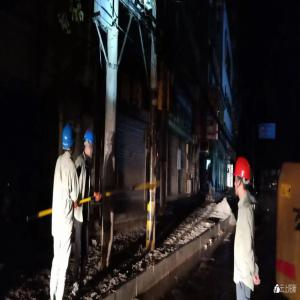blue: (63, 123, 76, 156), (85, 129, 96, 161)
red: (232, 156, 252, 201)
